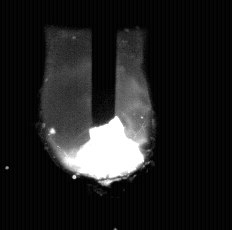arame: (93, 0, 117, 128)
poca: (46, 0, 152, 230)
